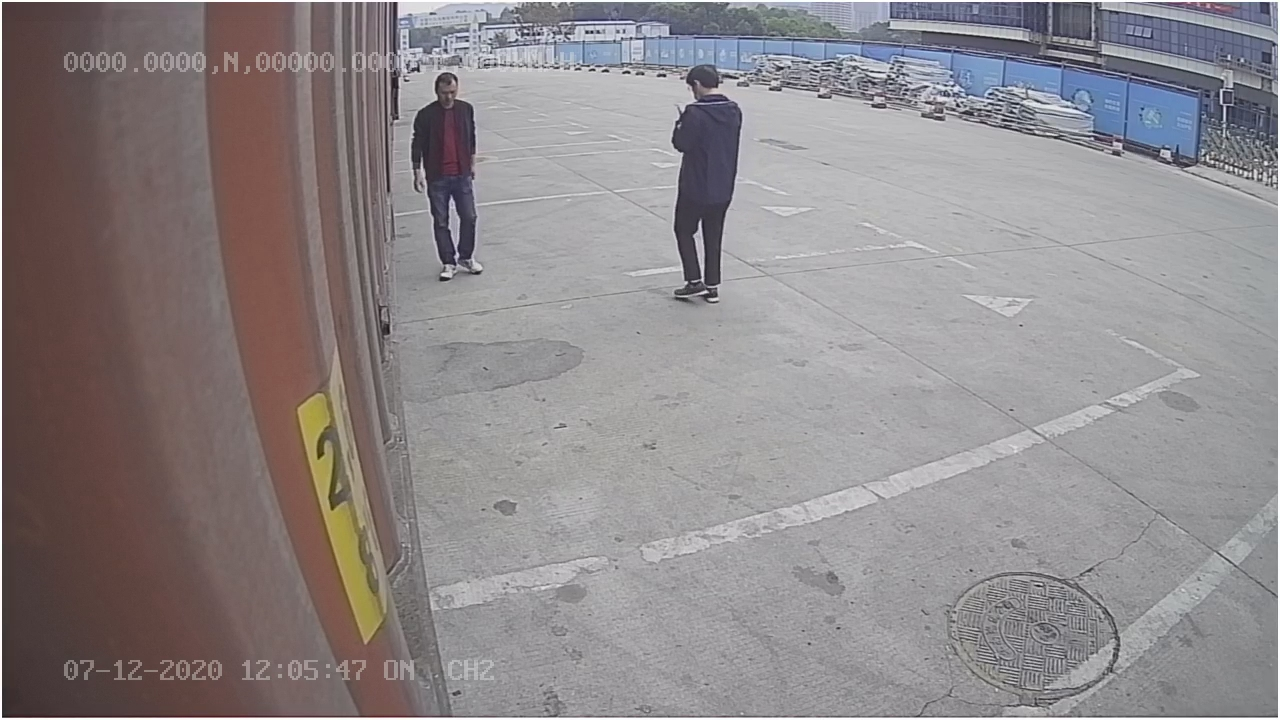person: (663, 62, 743, 309)
